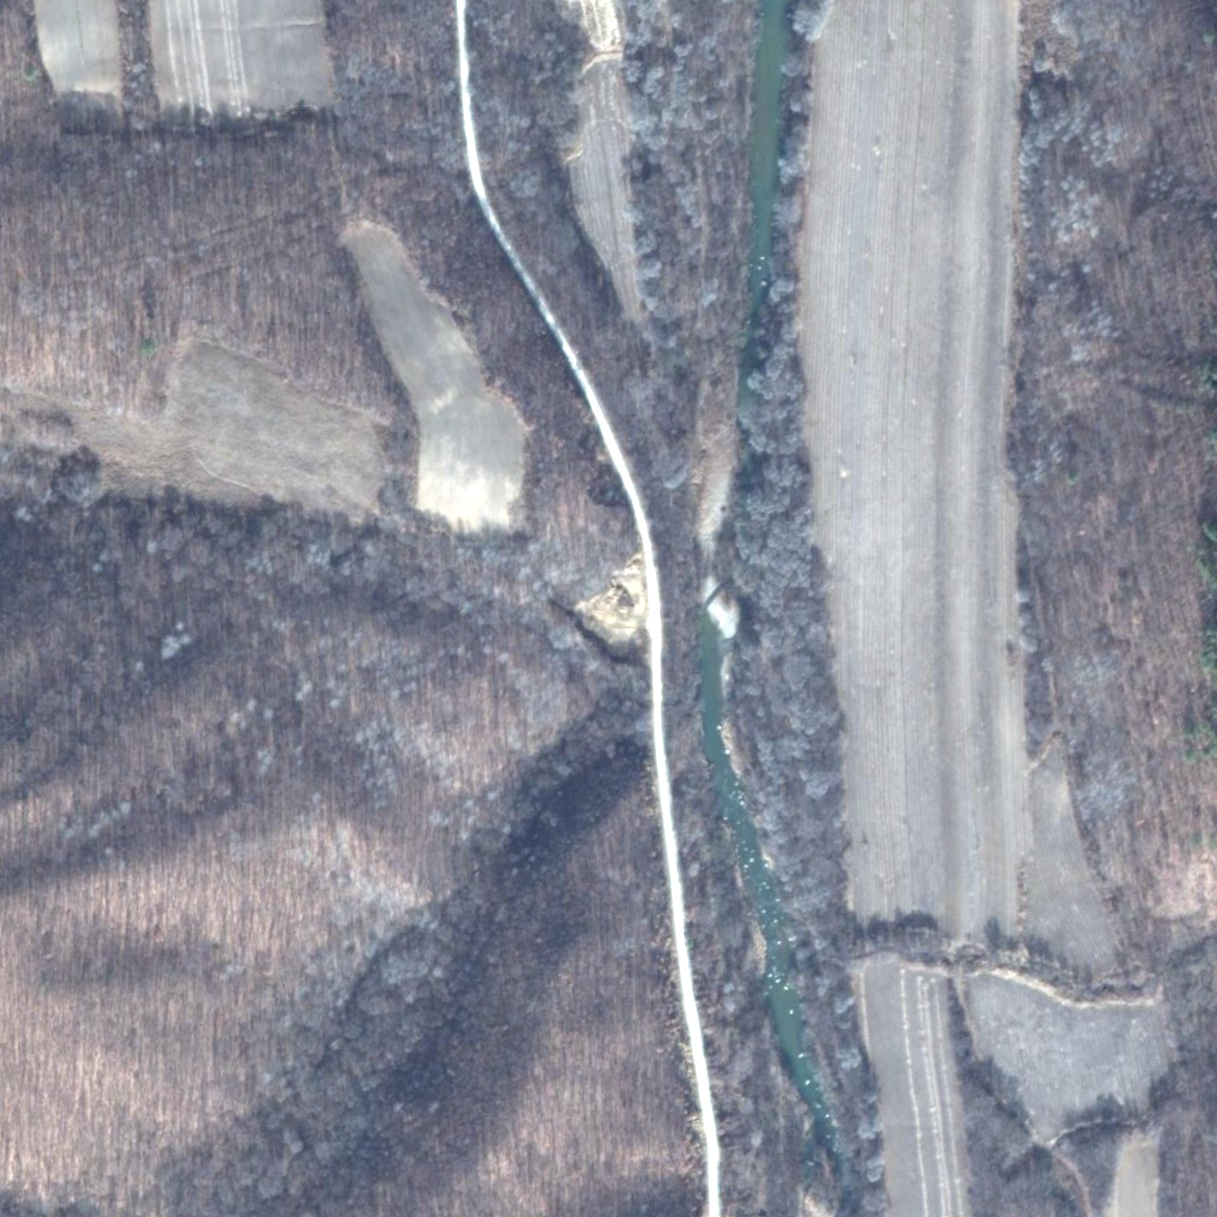slope: (572, 556, 646, 665)
